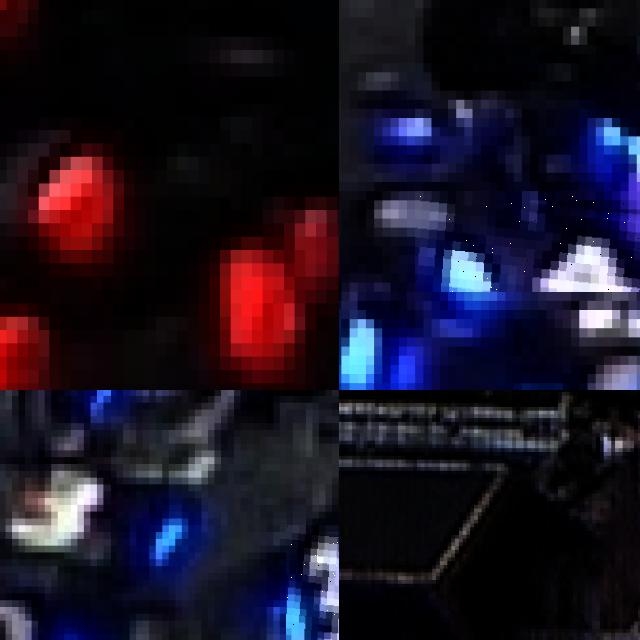B3: (286, 525, 339, 640), (0, 586, 83, 640)
B4: (415, 191, 640, 291), (489, 319, 640, 390)
